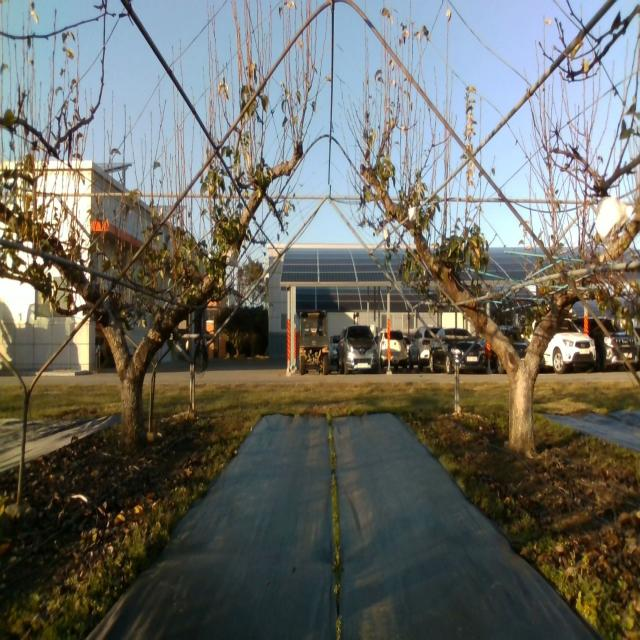pearbags: (592, 195, 630, 238), (226, 246, 239, 268)
